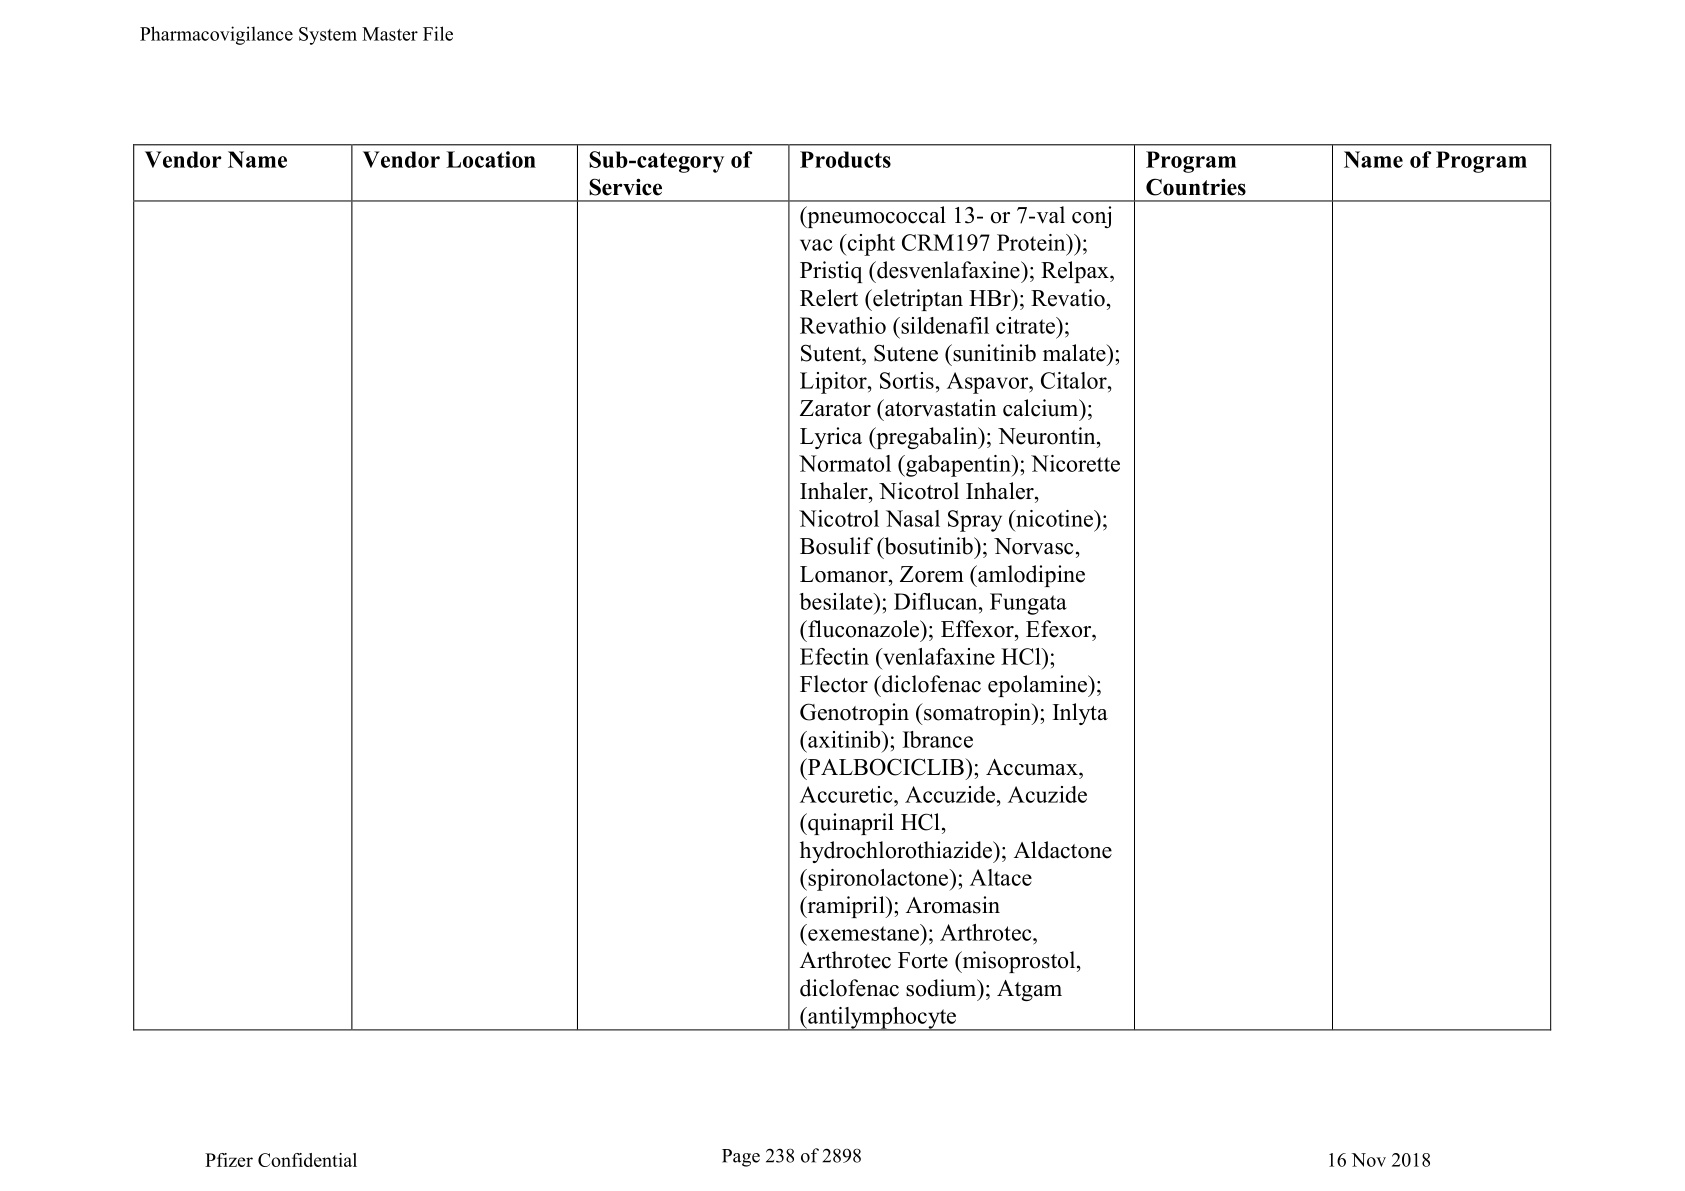full_lined: (119, 137, 1564, 1047)
